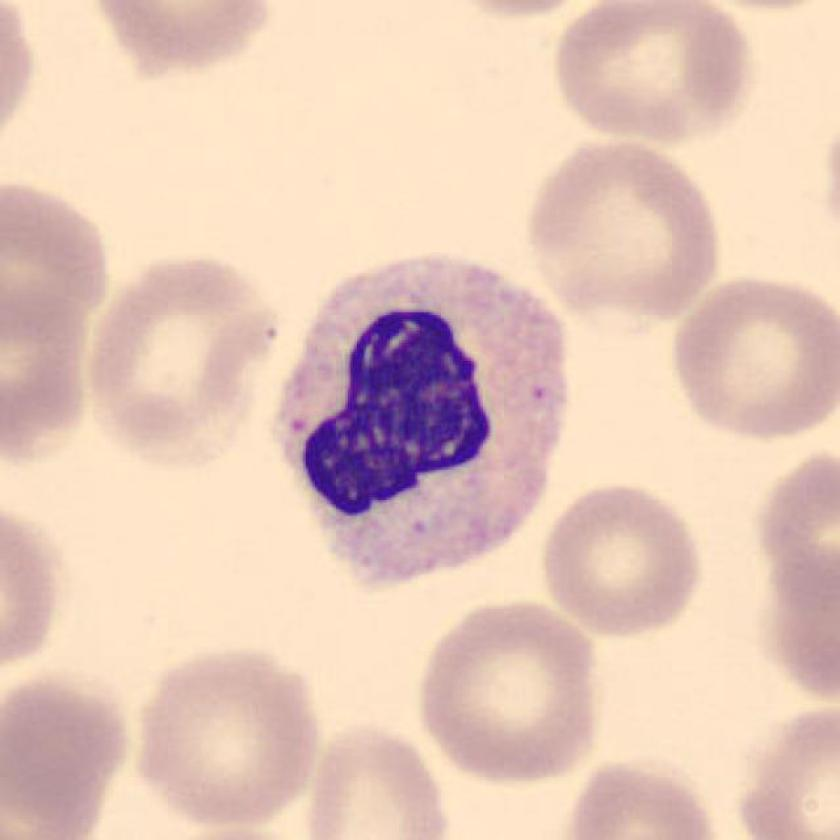neutrophil: (277, 256, 571, 585)
